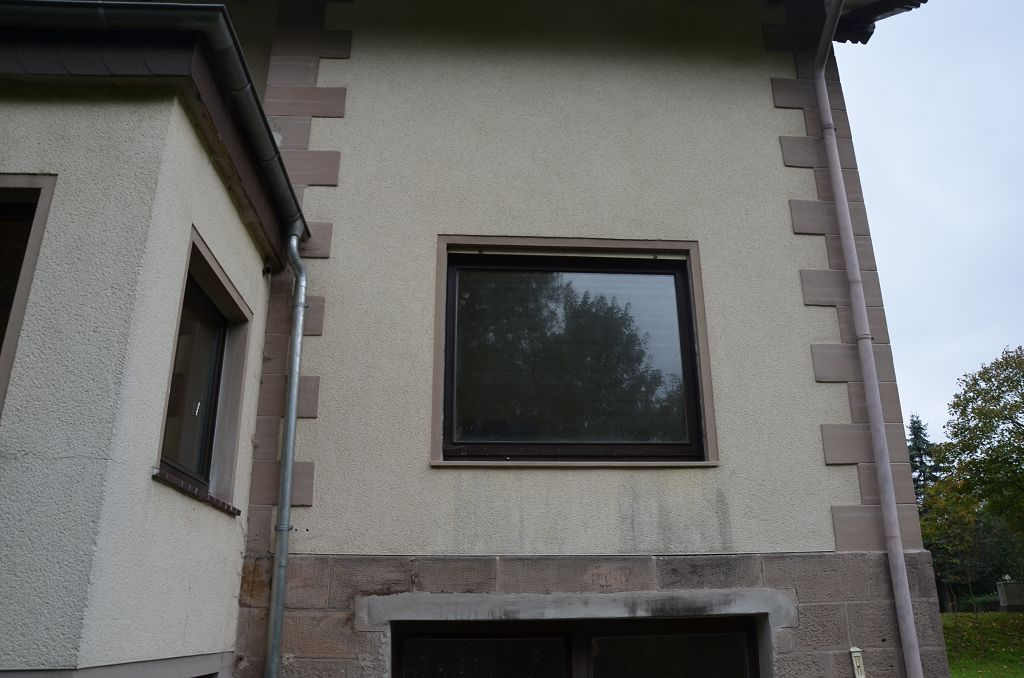windows: (439, 237, 717, 469)
